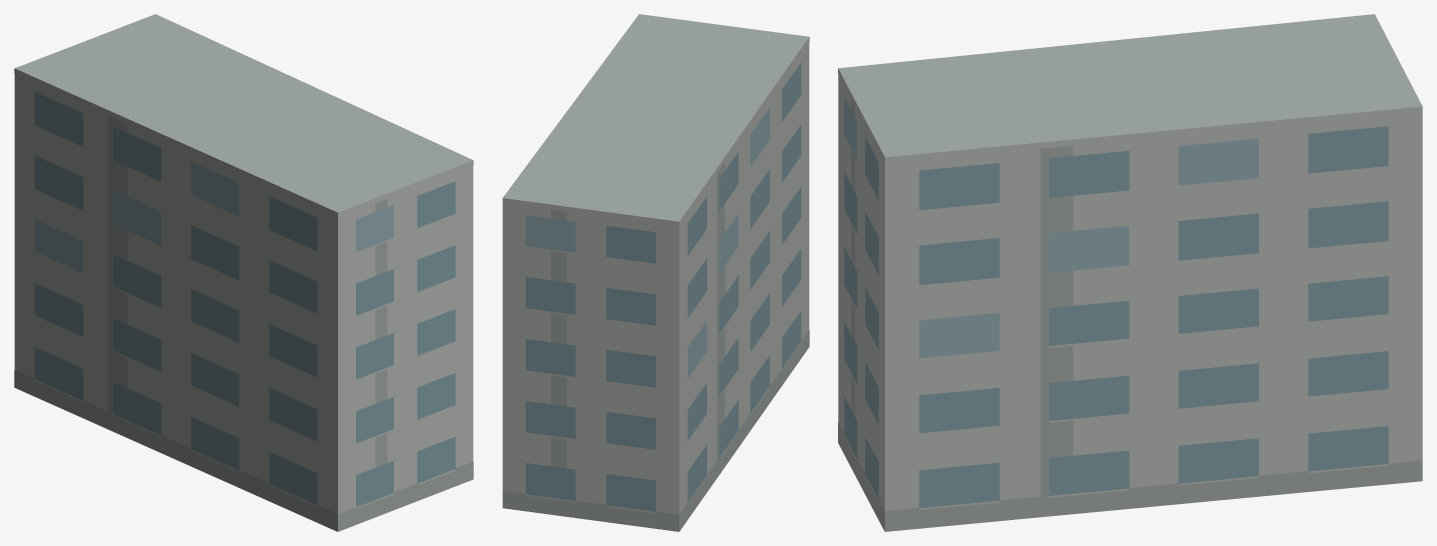
The model's file is survey-upis-32809607.glb.
The picture shows the model from 3 angles, left to right: view 1: azimuth 30°, elevation 25°; view 2: azimuth 150°, elevation 25°; view 3: azimuth 270°, elevation 25°; orthographic projection. The views are drawn at different scales.
Parts seen in each view (by area): view 1: survey-upis-32809607.tmp; view 2: survey-upis-32809607.tmp; view 3: survey-upis-32809607.tmp.
Part boxes in pixels (<box>): survey-upis-32809607.tmp: <box>14,14,473,531</box>; survey-upis-32809607.tmp: <box>502,14,809,531</box>; survey-upis-32809607.tmp: <box>838,14,1422,531</box>.
Bounding box in the file's own units: 12.1 × 14.75 × 20.86.
